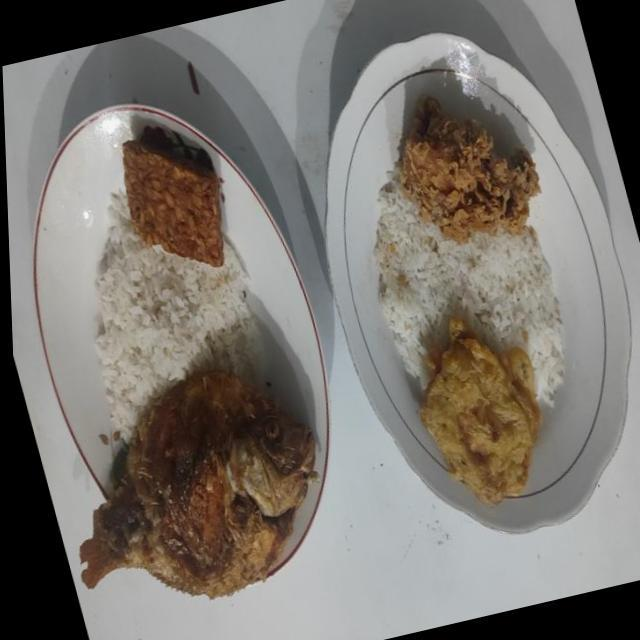ikan_mujair: (80, 369, 317, 596)
nasi_putih: (374, 166, 564, 404), (95, 190, 266, 440)
tempe_goreng: (122, 139, 224, 266)
